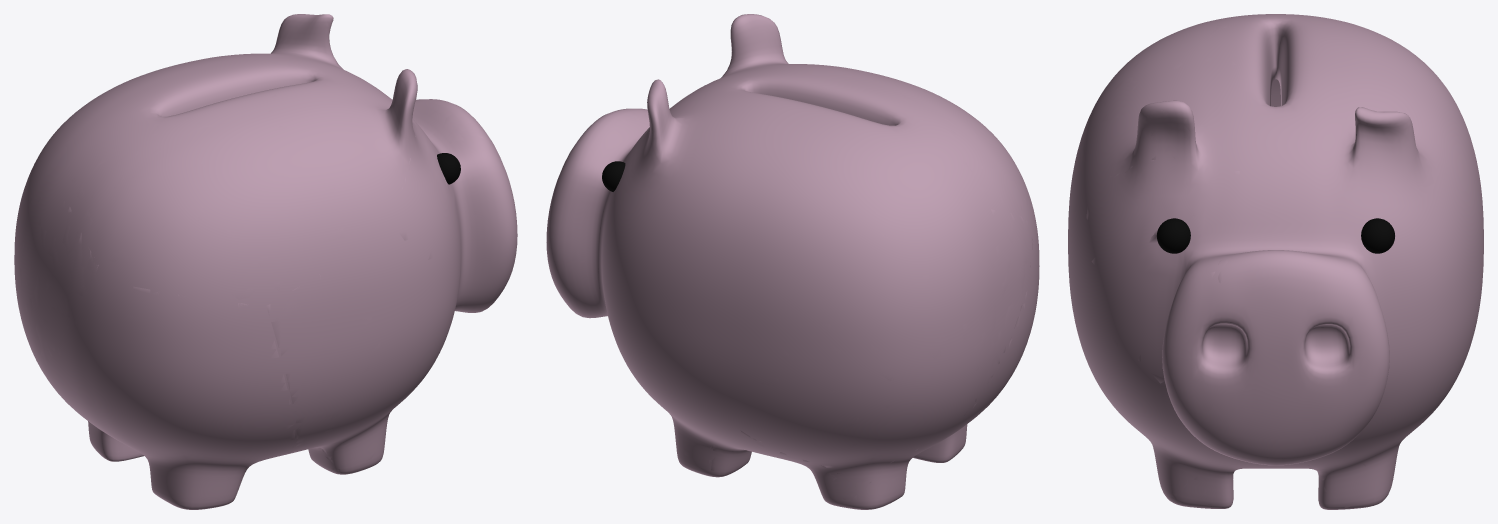
The model's file is pig_solidify.fbx.
3 renders of one model, left to right at view 1: azimuth 30°, elevation 25°; view 2: azimuth 150°, elevation 25°; view 3: azimuth 270°, elevation 25°, orthographic. The views are drawn at different scales.
Visible parts, largest first — view 1: pig, pig_cell.004, pig_cell.009, pig_cell.002, pig_cell.006, pig_cell, pig_cell.008; view 2: pig, pig_cell.009, pig_cell.008, pig_cell.002; view 3: pig, pig_cell, pig_cell.002, pig_cell.008.
Part boxes in pixels (x1=…): pig: x1=14, y1=14, x2=517, y2=509; pig_cell.004: x1=50, y1=286, x2=294, y2=509; pig_cell.009: x1=14, y1=122, x2=98, y2=381; pig_cell.002: x1=71, y1=22, x2=416, y2=299; pig_cell.006: x1=266, y1=274, x2=433, y2=474; pig_cell: x1=399, y1=136, x2=517, y2=312; pig_cell.008: x1=423, y1=108, x2=493, y2=144; pig: x1=546, y1=14, x2=1039, y2=509; pig_cell.009: x1=718, y1=209, x2=1033, y2=483; pig_cell.008: x1=558, y1=108, x2=649, y2=277; pig_cell.002: x1=750, y1=16, x2=1028, y2=212; pig: x1=1068, y1=14, x2=1483, y2=509; pig_cell: x1=1086, y1=160, x2=1251, y2=462; pig_cell.002: x1=1076, y1=16, x2=1394, y2=162; pig_cell.008: x1=1218, y1=171, x2=1394, y2=379.
Size of what is drawn, in the model's own units: 256 by 218 by 194.
